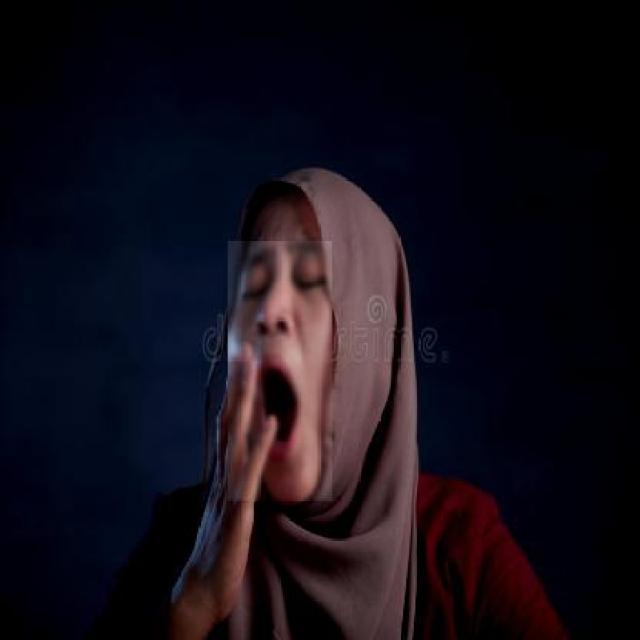sleepy: (226, 250, 362, 488)
